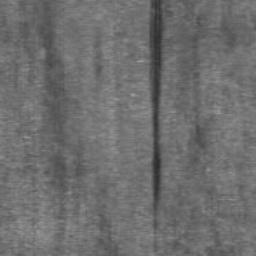Scratches: (148, 0, 163, 235)
